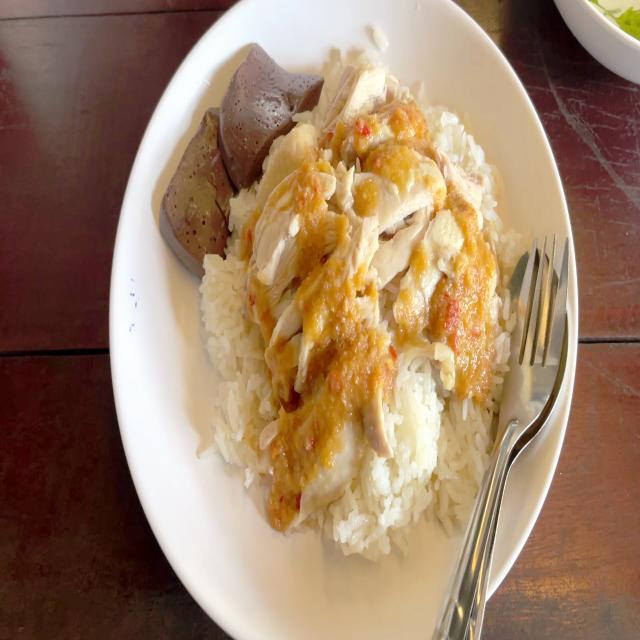boiled_chicken: (267, 117, 456, 422)
boiled_chicken_blood_jelly: (164, 110, 240, 280), (231, 51, 315, 172)
chicken_rice: (163, 22, 520, 541)
